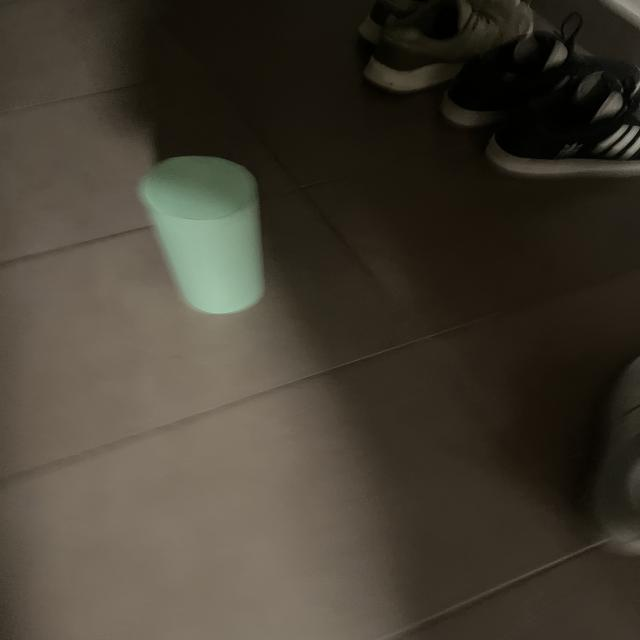meta: (138, 156, 265, 314)
